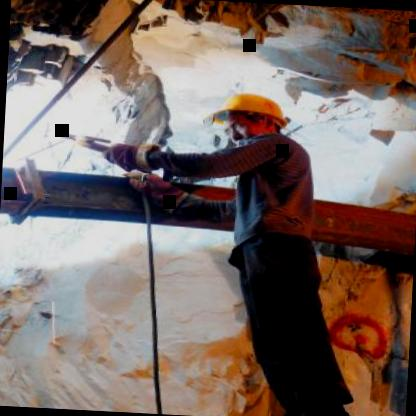helmet: (209, 84, 300, 148)
